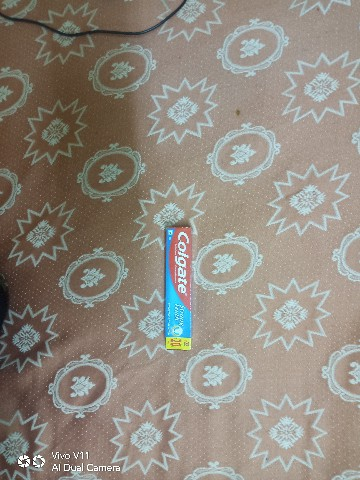colgatetoothpaste small: (154, 204, 210, 369)
